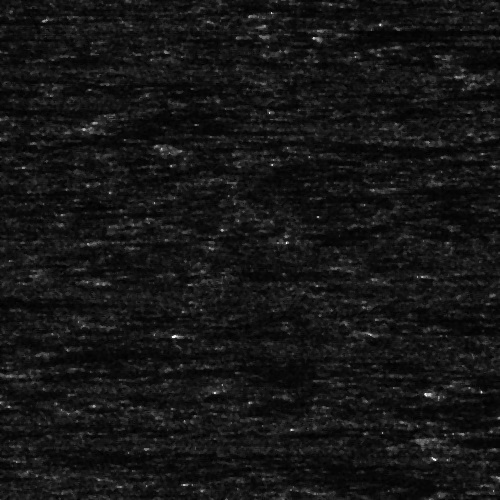object: (396, 431, 489, 446), (48, 122, 131, 137), (433, 67, 500, 78), (0, 367, 66, 378), (367, 181, 420, 190), (161, 329, 224, 336), (307, 25, 360, 32), (448, 448, 469, 459), (37, 348, 78, 353), (378, 317, 409, 320), (378, 329, 409, 332), (221, 275, 252, 278)
shadow: (90, 122, 303, 137), (20, 367, 284, 378), (333, 25, 500, 32), (193, 329, 334, 336), (394, 181, 500, 190), (442, 431, 500, 446), (57, 348, 190, 353), (458, 448, 500, 459), (0, 12, 49, 19), (394, 317, 468, 320), (394, 329, 468, 332), (237, 275, 309, 278), (0, 294, 39, 299)
